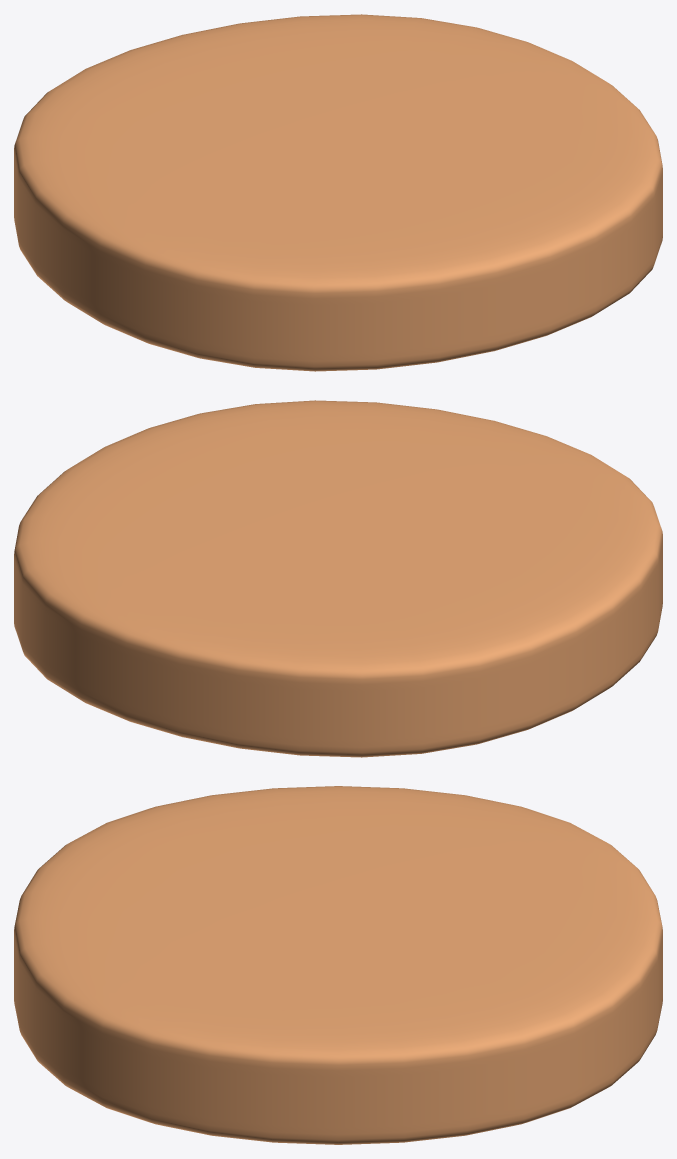
Rendered from pan2.glb.
3 views of the same model, one above another, from view 1: azimuth 30°, elevation 25°; view 2: azimuth 150°, elevation 25°; view 3: azimuth 270°, elevation 25° (orthographic). The views are drawn at different scales.
Parts seen in each view (by area): view 1: pan1; view 2: pan1; view 3: pan1.
Part boxes in pixels (x1=…): pan1: x1=14, y1=14, x2=662, y2=371; pan1: x1=14, y1=400, x2=662, y2=757; pan1: x1=14, y1=786, x2=662, y2=1144.
Bounding box in the file's own units: 1.83 × 0.3161 × 1.83.
